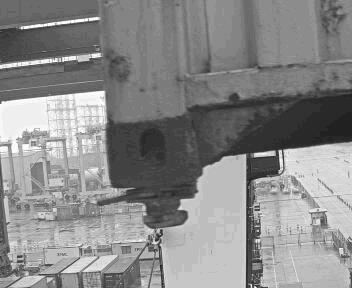twist_lock_1: (112, 186, 199, 237)
